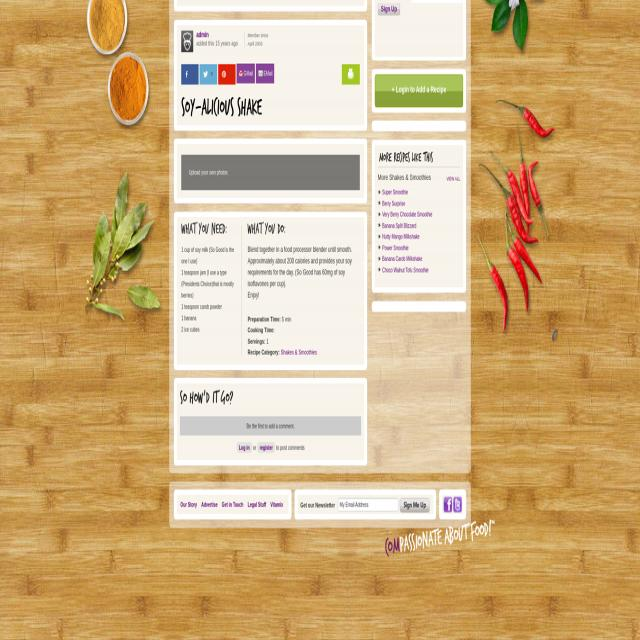button: (374, 76, 464, 110), (218, 63, 236, 85), (256, 64, 274, 84), (342, 65, 360, 85), (200, 64, 217, 85), (181, 64, 198, 84), (378, 1, 400, 16), (237, 64, 254, 83), (181, 31, 193, 52), (257, 442, 275, 453), (236, 442, 252, 452)
field: (338, 500, 398, 514), (400, 500, 430, 515)
